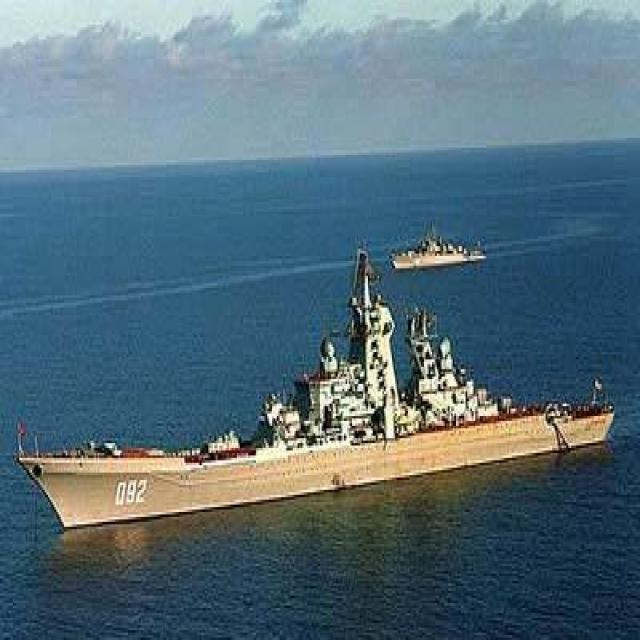navalvessels: (9, 266, 623, 553), (362, 210, 502, 302)
